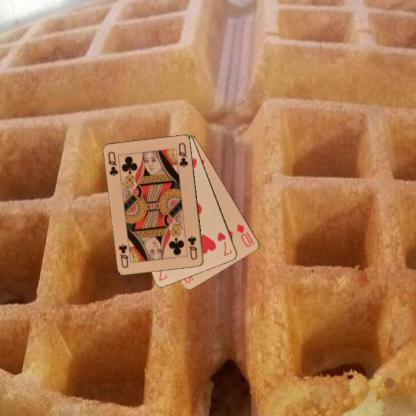10d: (234, 221, 255, 249)
7h: (215, 229, 233, 257)
Qc: (185, 234, 199, 261), (106, 149, 119, 177)
